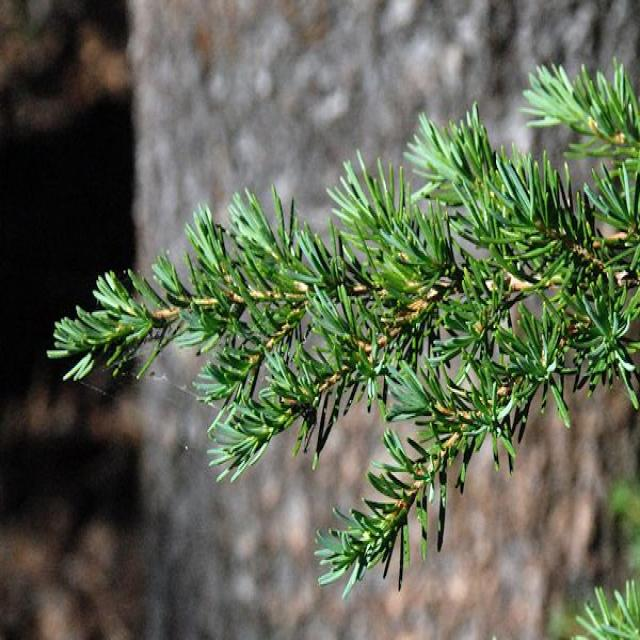Tsuga mertensiana: (31, 38, 640, 608)
